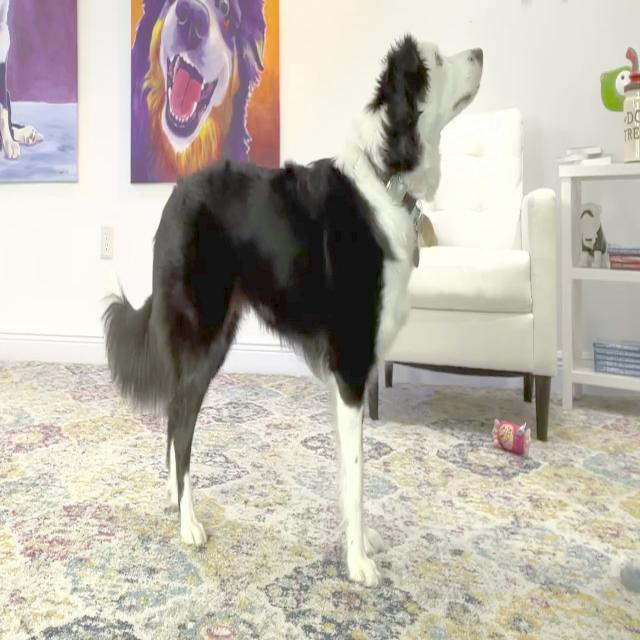Dog: (97, 32, 484, 586)
